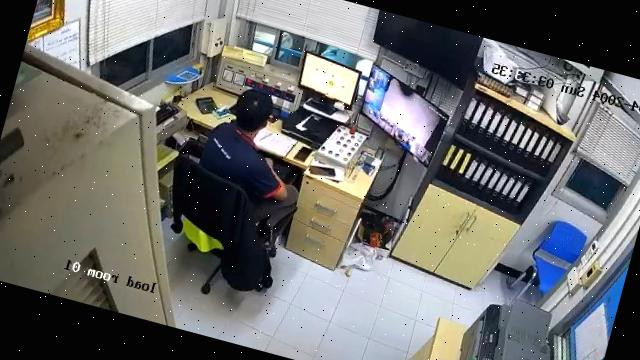Head: (231, 89, 272, 131)
People: (201, 90, 298, 226)
Phone: (292, 145, 314, 162), (308, 165, 335, 176)
